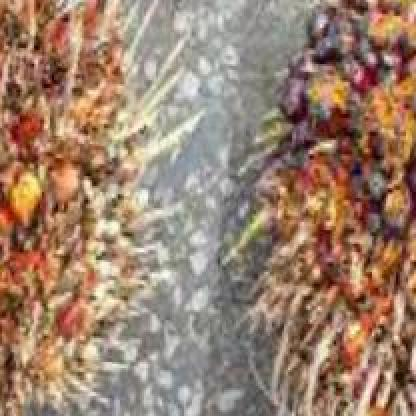overripe: (204, 0, 416, 416), (0, 0, 200, 416)
